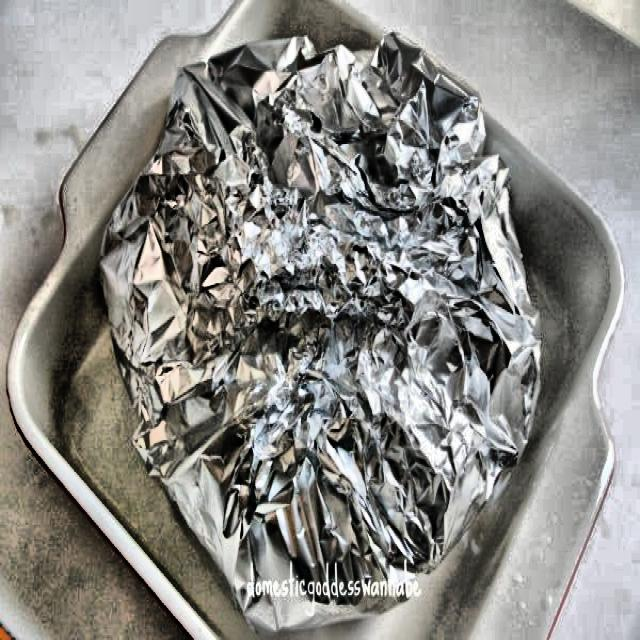Foil: (95, 29, 546, 635)
